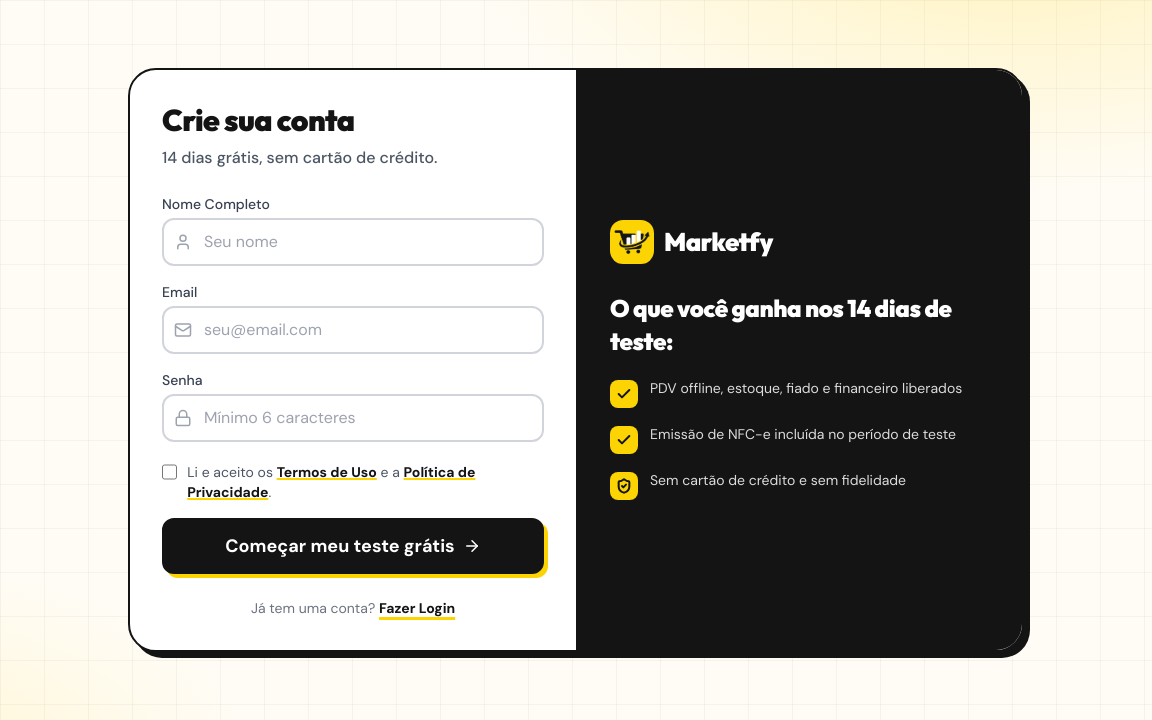
Test: Register › rejects a name shorter than 3 characters
Type "An" into the field with placeholder "Seu nome" at [353, 242], box [162,218,544,266]
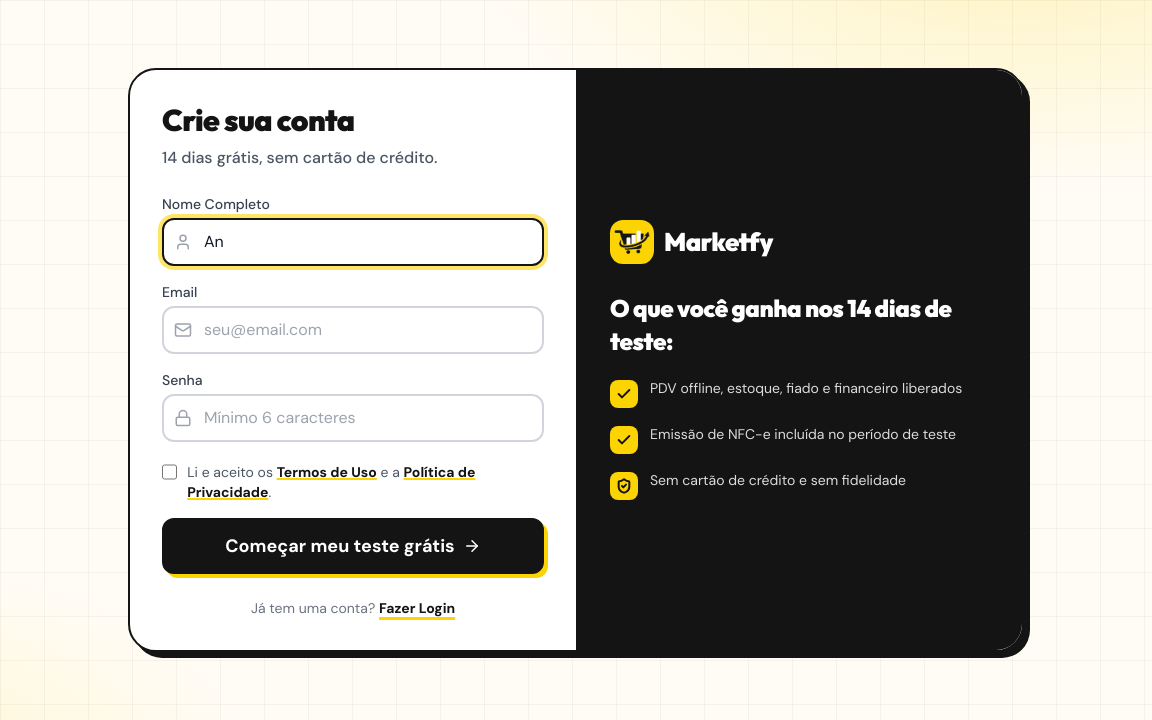
Click the button "Começar meu teste grátis" at [353, 546], box [162,518,544,574]
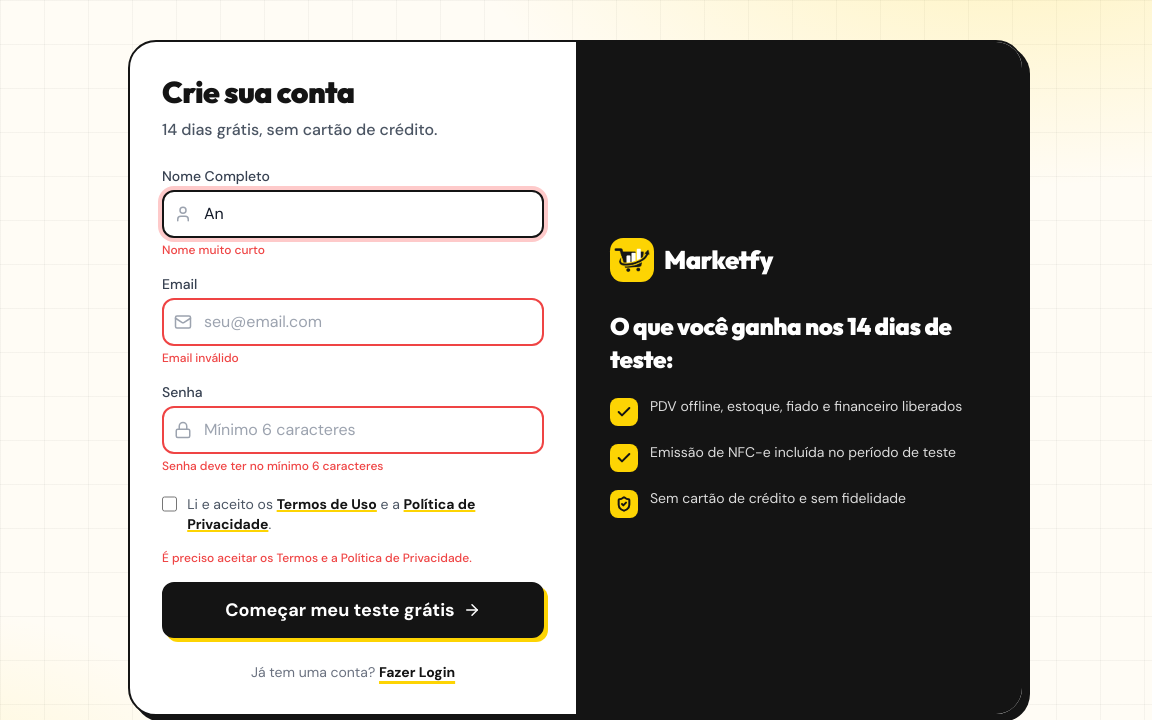
Expected: the text "Nome muito curto" is shown, [162,242,265,258]
